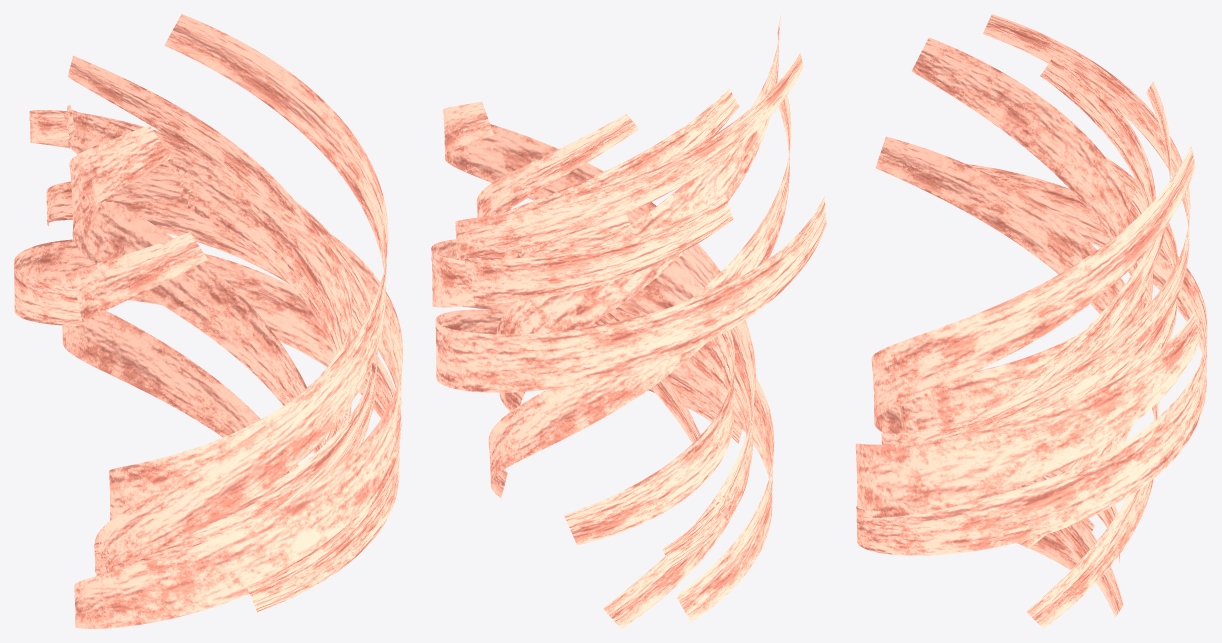
File: devil_wisps_2.glb
3 renders of one model, left to right at view 1: azimuth 30°, elevation 25°; view 2: azimuth 150°, elevation 25°; view 3: azimuth 270°, elevation 25°, orthographic. The views are drawn at different scales.
Visible parts, largest first — view 1: devil_wisps_2; view 2: devil_wisps_2; view 3: devil_wisps_2.
Part boxes in pixels (x1,y1,x2,y2): devil_wisps_2: [14, 14, 402, 628]; devil_wisps_2: [431, 15, 826, 628]; devil_wisps_2: [855, 14, 1207, 628].
Bounding box in the file's own units: 13.31 × 21.12 × 12.25.
1 material, 1 textured.
